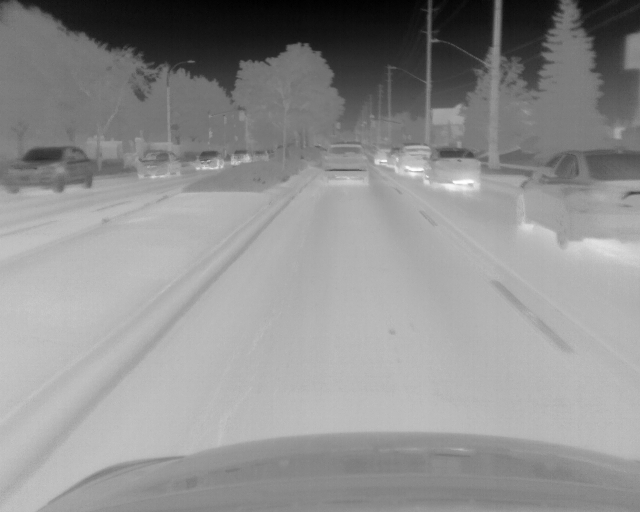car: (513, 149, 640, 251), (3, 146, 96, 195), (425, 147, 479, 189), (321, 144, 368, 185), (137, 150, 181, 179), (395, 145, 427, 175), (194, 151, 223, 168), (370, 142, 388, 166), (231, 150, 249, 165)
